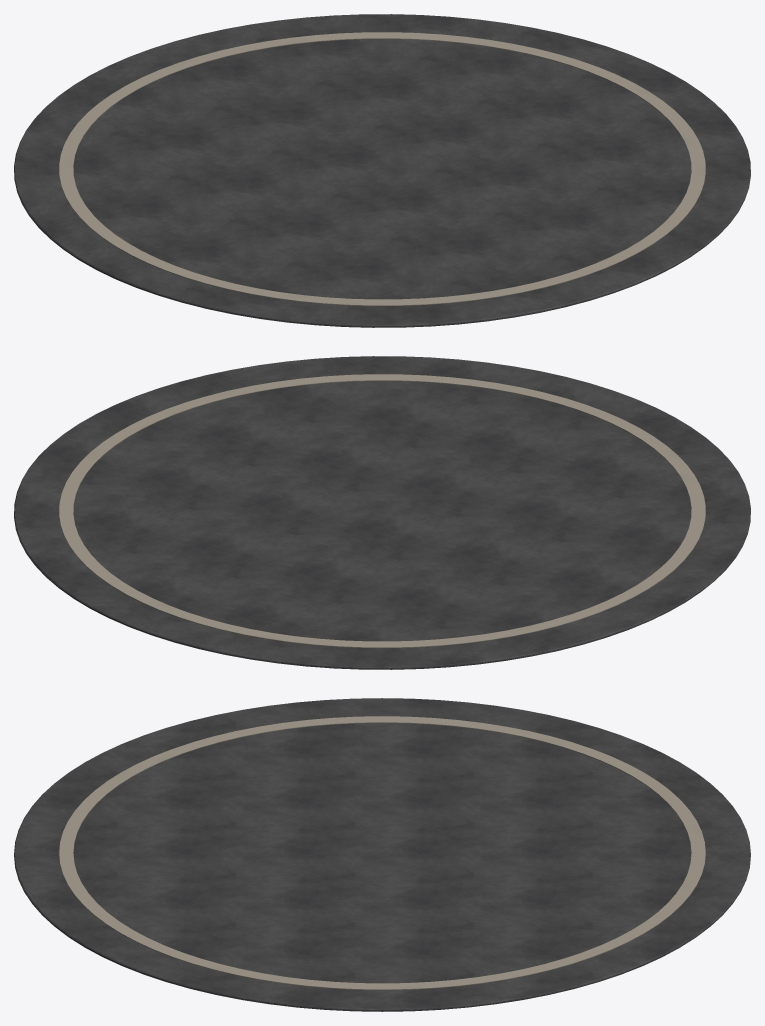
Rendered from entry_rug_round.gltf.
3 renders of one model, top to bottom at view 1: azimuth 30°, elevation 25°; view 2: azimuth 150°, elevation 25°; view 3: azimuth 270°, elevation 25°, orthographic.
Parts seen in each view (by area): view 1: EntryRugRound_Body, EntryRugRound_Band; view 2: EntryRugRound_Body, EntryRugRound_Band; view 3: EntryRugRound_Body, EntryRugRound_Band.
Boxes of the visible parts, x1=… form: EntryRugRound_Body: x1=14, y1=14, x2=750, y2=327; EntryRugRound_Band: x1=59, y1=32, x2=705, y2=305; EntryRugRound_Body: x1=14, y1=356, x2=750, y2=669; EntryRugRound_Band: x1=59, y1=374, x2=705, y2=647; EntryRugRound_Body: x1=14, y1=698, x2=750, y2=1011; EntryRugRound_Band: x1=59, y1=716, x2=705, y2=989.
Bounding box in the file's own units: 3.1 × 0.017 × 3.1.
2 materials, 1 textured.
